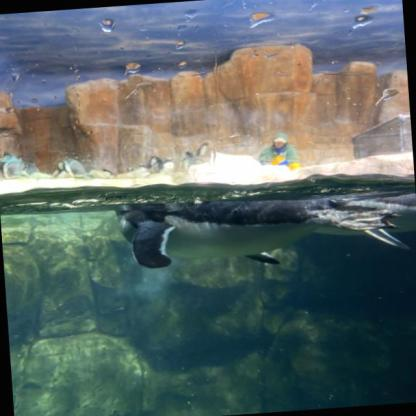penguin: (112, 171, 403, 275), (276, 188, 416, 242), (46, 154, 90, 182), (0, 148, 30, 184), (178, 150, 205, 176), (137, 153, 164, 177), (192, 140, 212, 158)
